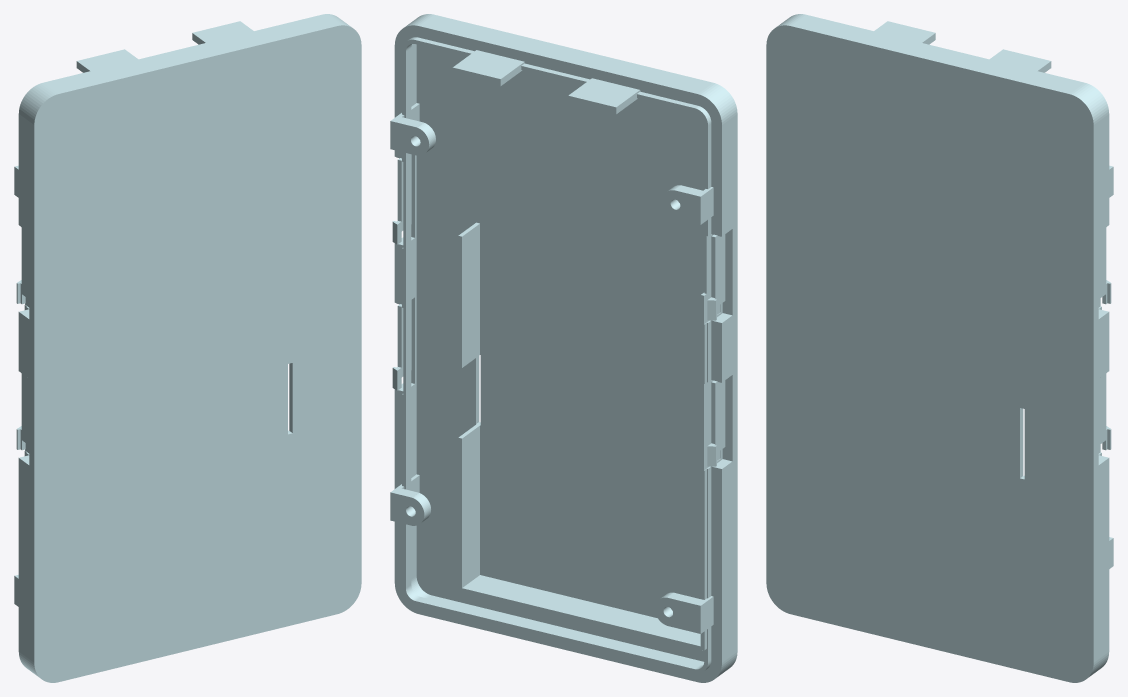
File: rear-cover.glb
3 views of the same model, side by side, from view 1: azimuth 30°, elevation 25°; view 2: azimuth 150°, elevation 25°; view 3: azimuth 330°, elevation 25° (orthographic).
Visible parts, largest first — view 1: rear-cover; view 2: rear-cover; view 3: rear-cover.
Boxes of the visible parts, x1,y1,x2,y2 form: rear-cover: (14, 14, 361, 682); rear-cover: (390, 14, 737, 682); rear-cover: (766, 14, 1113, 682).
Bounding box in the file's own units: 68 × 117 × 14.2.
